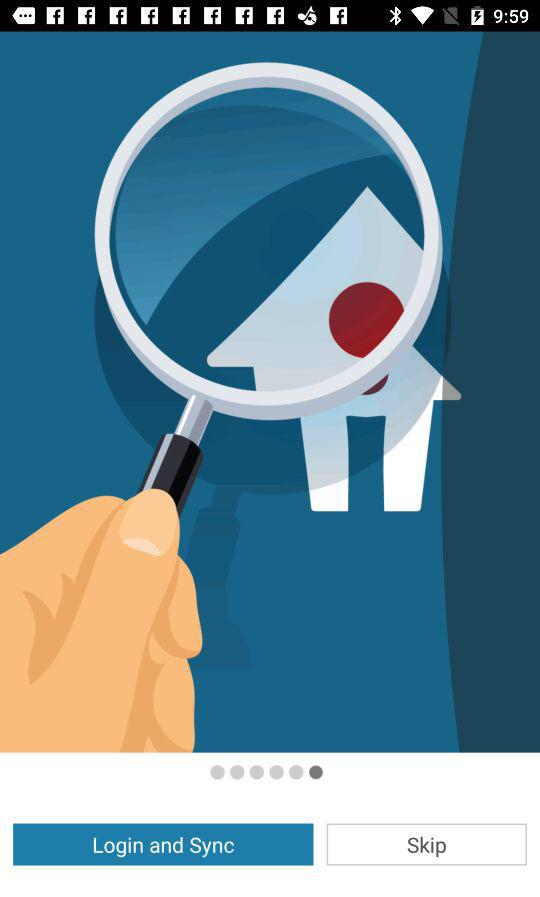Image: (1, 33, 539, 752)
PageIndicator: (209, 764, 324, 781)
TextButton: (13, 823, 315, 866), (327, 823, 527, 866)
UpperTaskBar: (1, 1, 540, 33)
